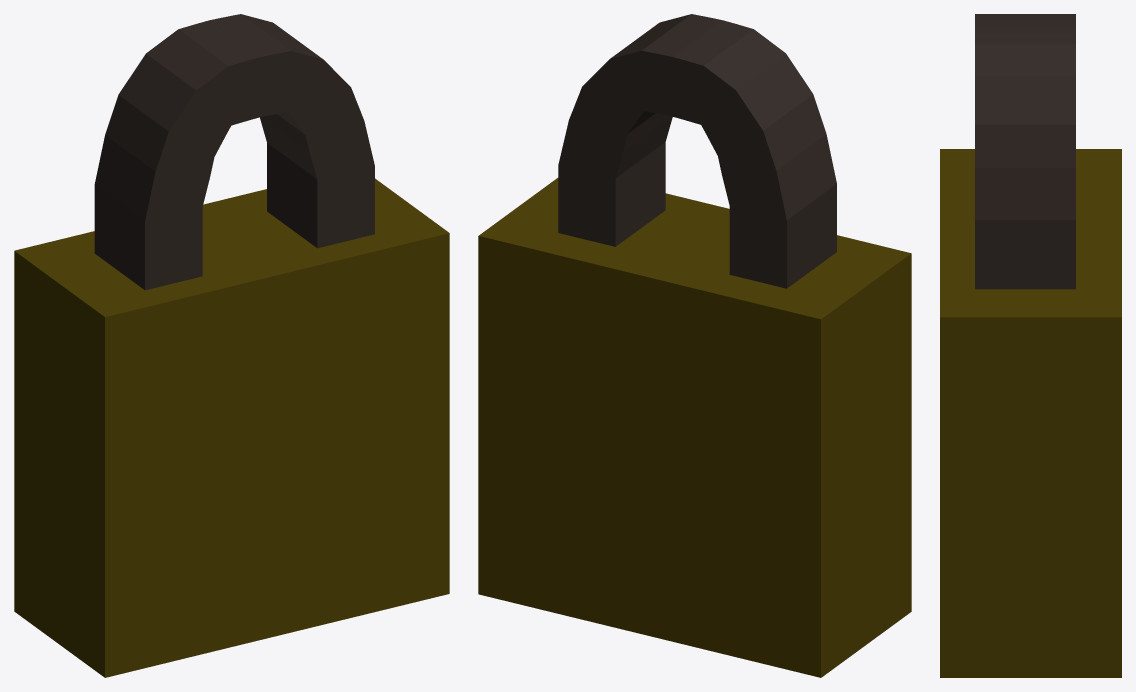
Rendered from Candado.fbx.
The picture shows the model from 3 angles, left to right: view 1: azimuth 30°, elevation 25°; view 2: azimuth 150°, elevation 25°; view 3: azimuth 270°, elevation 25°; orthographic projection.
Visible parts, largest first — view 1: Cube, Cube.001; view 2: Cube, Cube.001; view 3: Cube, Cube.001.
Part boxes in pixels (left/top/right/bottom): Cube: left=14, top=178, right=449, bottom=677; Cube.001: left=94, top=14, right=374, bottom=290; Cube: left=478, top=178, right=911, bottom=677; Cube.001: left=558, top=14, right=836, bottom=288; Cube: left=940, top=149, right=1121, bottom=677; Cube.001: left=975, top=14, right=1075, bottom=289.
Bounding box in the file's own units: 200 × 314 × 91.36.
